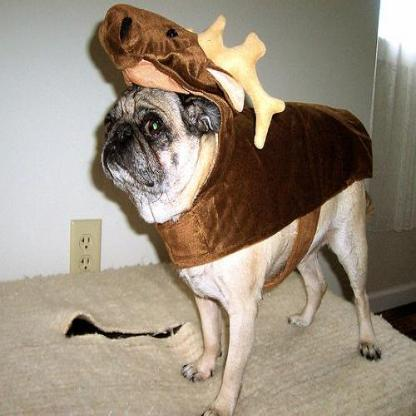pug: (97, 80, 378, 414)
